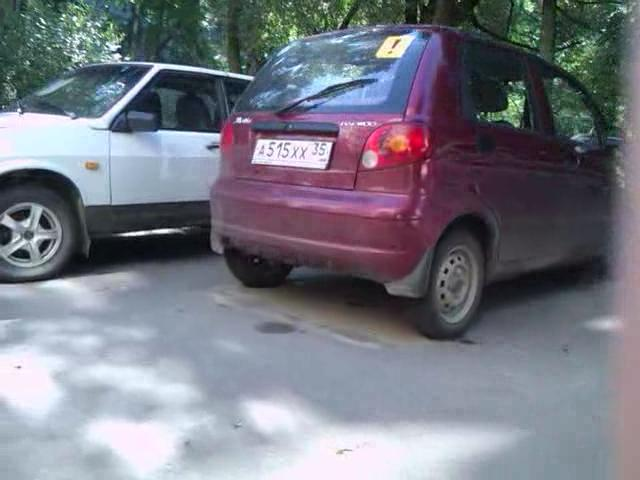car license plate: (251, 135, 336, 175)
